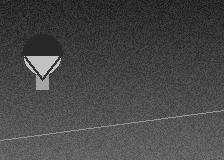helmet: (22, 34, 62, 79)
